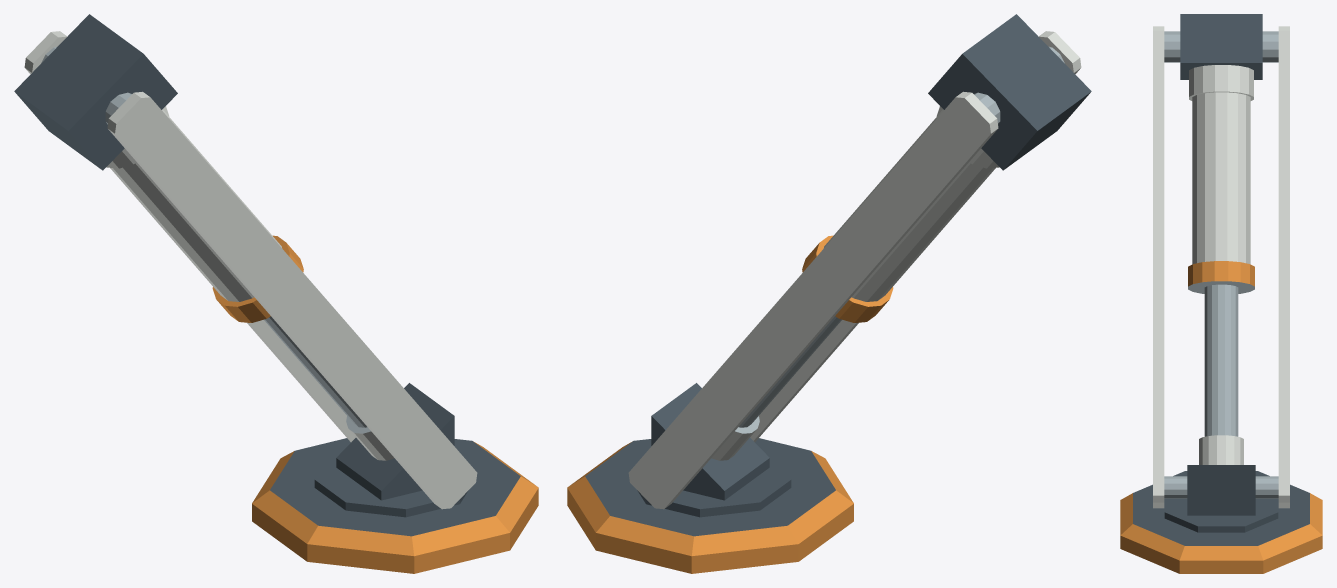
The picture shows the model from 3 angles, left to right: view 1: azimuth 30°, elevation 25°; view 2: azimuth 150°, elevation 25°; view 3: azimuth 270°, elevation 25°; orthographic projection. The views are drawn at different scales.
Visible parts, largest first — view 1: NearChamferedSideLink, OctagonalSteppedFootpad, UpperMountingBlock, InclinedSteppedStrut, SlopingLowerShoe, FarChamferedSideLink; view 2: FarChamferedSideLink, OctagonalSteppedFootpad, UpperMountingBlock, InclinedSteppedStrut, SlopingLowerShoe, NearChamferedSideLink; view 3: InclinedSteppedStrut, OctagonalSteppedFootpad, FarChamferedSideLink, NearChamferedSideLink, UpperMountingBlock, SlopingLowerShoe, LowerFarTransversePin, LowerNearTransversePin, UpperFarTransversePin, UpperNearTransversePin.
Boxes of the visible parts, x1,y1,x2,y2 form: NearChamferedSideLink: [107, 91, 477, 509]; OctagonalSteppedFootpad: [252, 438, 538, 573]; UpperMountingBlock: [14, 14, 177, 170]; InclinedSteppedStrut: [106, 106, 394, 460]; SlopingLowerShoe: [336, 383, 454, 500]; FarChamferedSideLink: [24, 31, 355, 442]; FarChamferedSideLink: [628, 91, 998, 509]; OctagonalSteppedFootpad: [567, 438, 853, 573]; UpperMountingBlock: [928, 14, 1091, 170]; InclinedSteppedStrut: [711, 106, 999, 460]; SlopingLowerShoe: [651, 383, 769, 500]; NearChamferedSideLink: [750, 31, 1081, 442]; InclinedSteppedStrut: [1188, 65, 1254, 464]; OctagonalSteppedFootpad: [1120, 471, 1322, 573]; FarChamferedSideLink: [1278, 26, 1289, 508]; NearChamferedSideLink: [1153, 26, 1164, 508]; UpperMountingBlock: [1180, 14, 1262, 79]; SlopingLowerShoe: [1187, 465, 1255, 515]; LowerFarTransversePin: [1255, 476, 1278, 498]; LowerNearTransversePin: [1164, 476, 1187, 498]; UpperFarTransversePin: [1262, 31, 1278, 62]; UpperNearTransversePin: [1164, 31, 1180, 62].
Bounding box in the file's own units: 1.8 × 2 × 0.8869.
